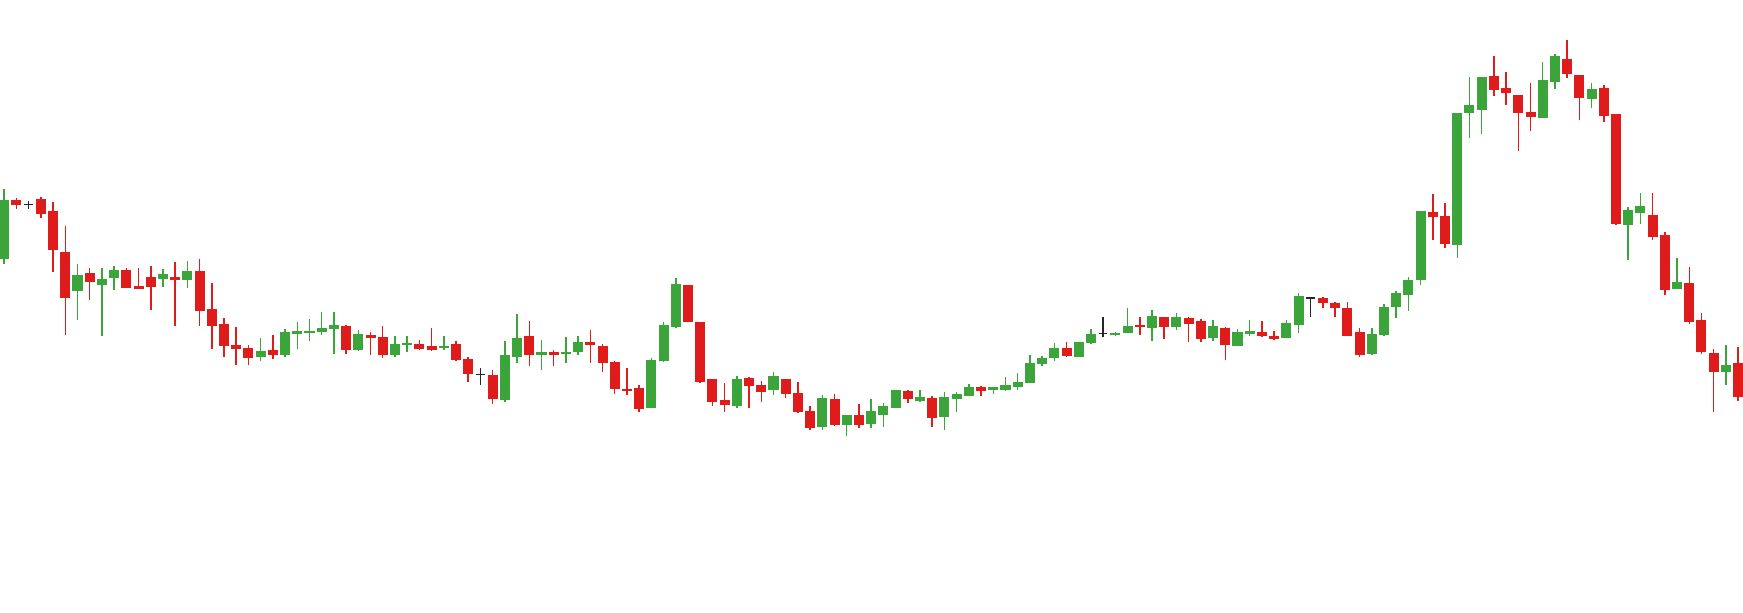buy: (1268, 306, 1377, 360)
sell: (509, 277, 695, 358), (1475, 41, 1572, 115)
